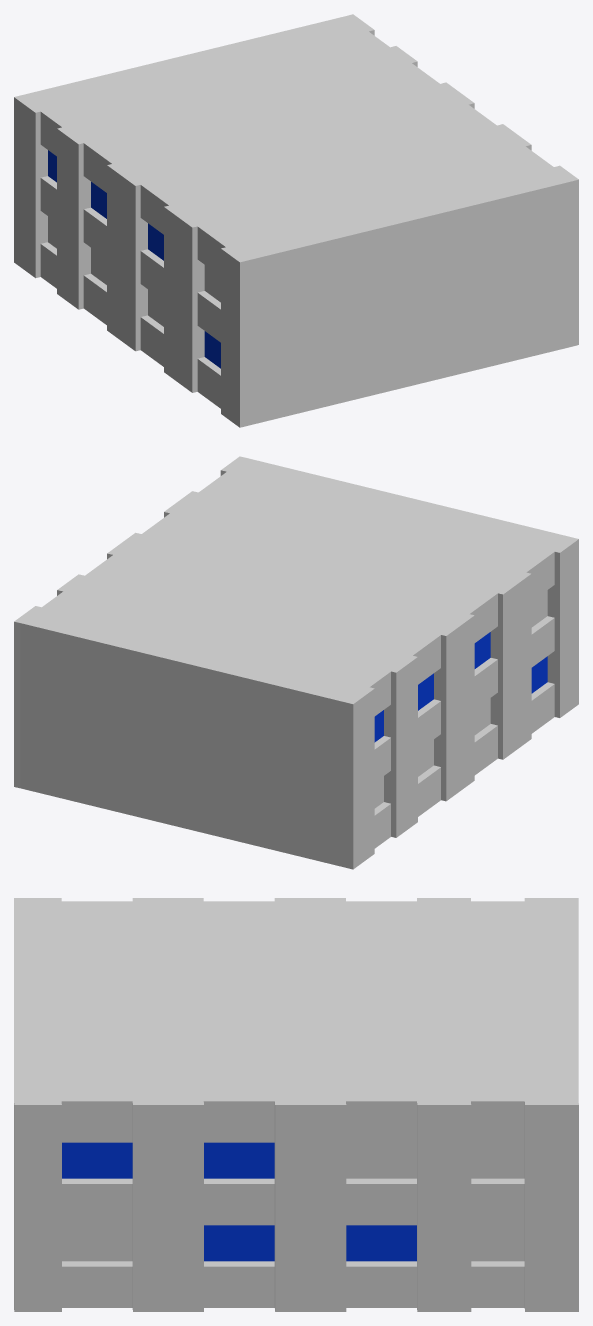
The model's file is HouseSegment_01_low.fbx.
The picture shows the model from 3 angles, top to bottom: view 1: azimuth 30°, elevation 25°; view 2: azimuth 150°, elevation 25°; view 3: azimuth 270°, elevation 25°; orthographic projection. The views are drawn at different scales.
Visible parts, largest first — view 1: House_Segment01_low; view 2: House_Segment01_low; view 3: House_Segment01_low.
Boxes of the visible parts, bbox=[...] form: House_Segment01_low: bbox=[14, 14, 578, 427]; House_Segment01_low: bbox=[14, 456, 578, 869]; House_Segment01_low: bbox=[14, 898, 578, 1311].
Size of the model in its own units: 2188 by 1019 by 2525.
